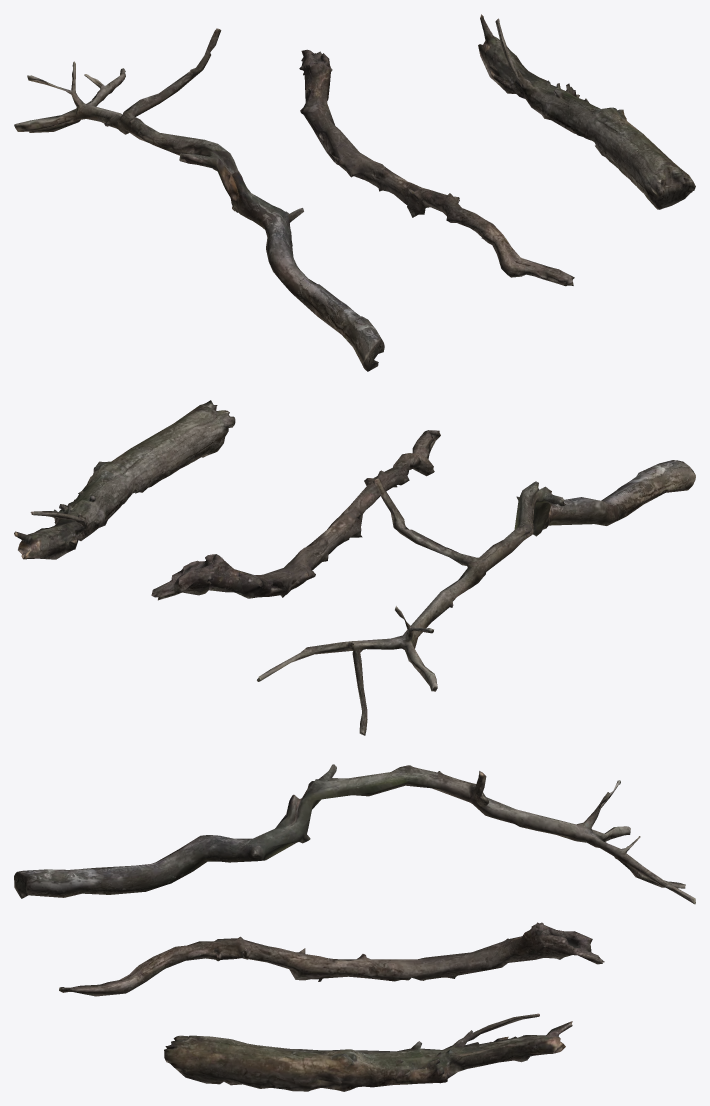
Rendered from dry_branches_medium_01.glb.
The picture shows the model from 3 angles, top to bottom: view 1: azimuth 30°, elevation 25°; view 2: azimuth 150°, elevation 25°; view 3: azimuth 270°, elevation 25°; orthographic projection. The views are drawn at different scales.
Visible parts, largest first — view 1: dry_branches_medium_01_c; view 2: dry_branches_medium_01_c; view 3: dry_branches_medium_01_c.
Part boxes in pixels (x1=…): dry_branches_medium_01_c: x1=14, y1=14, x2=695, y2=371; dry_branches_medium_01_c: x1=14, y1=400, x2=695, y2=735; dry_branches_medium_01_c: x1=14, y1=764, x2=695, y2=1091.
Size of the model in its own units: 1.06 by 0.34 by 1.3.
1 material, 1 textured.
